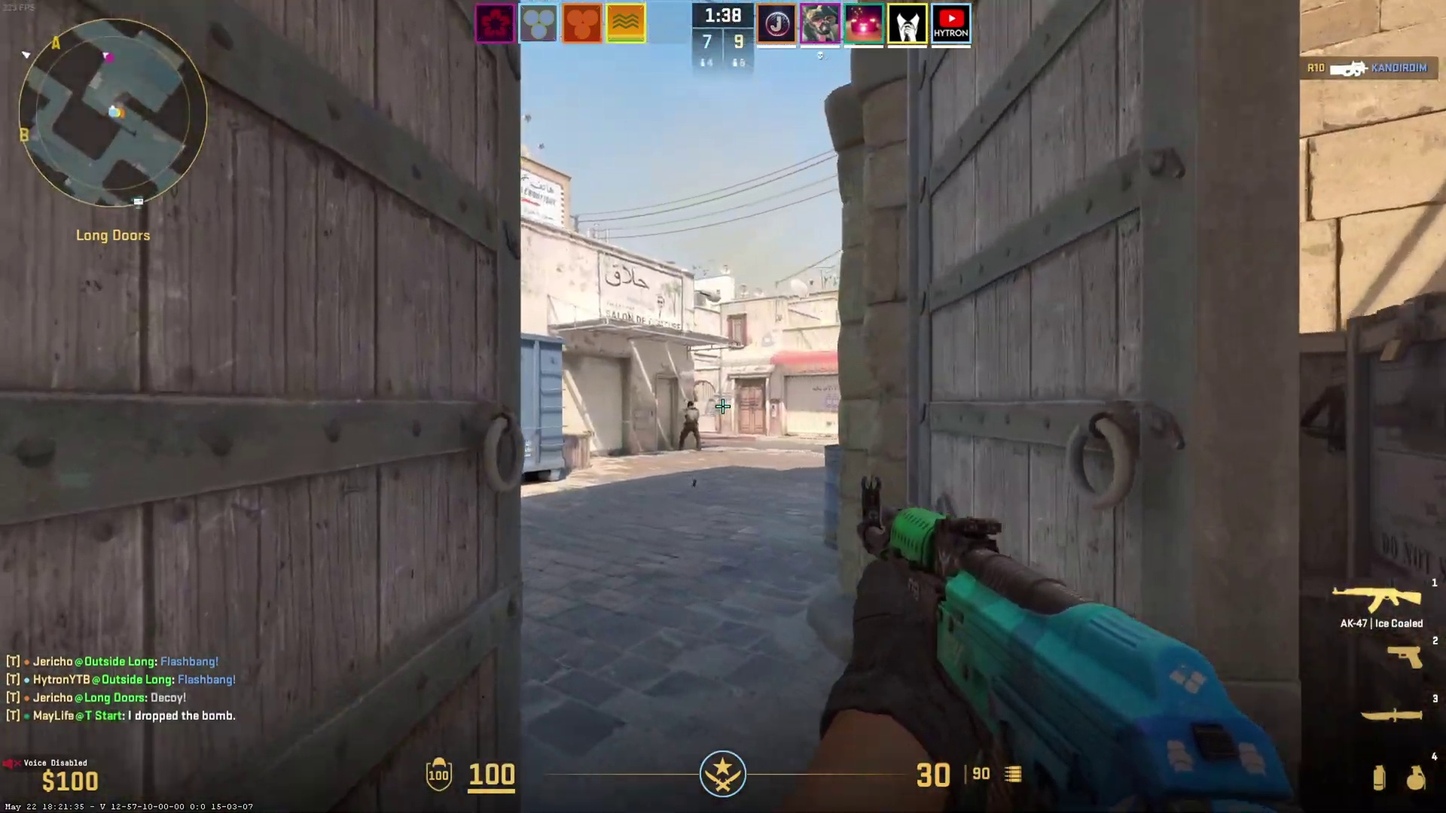Terrorist: (678, 400, 702, 451)
